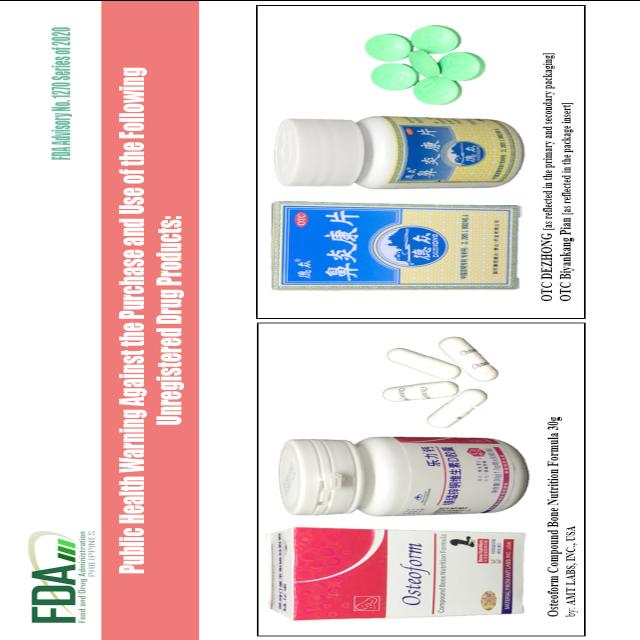counterfeit: (260, 526, 526, 622), (268, 200, 530, 296), (274, 434, 524, 518), (266, 114, 522, 190), (379, 336, 507, 426), (367, 22, 495, 102)
